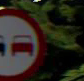No overtake: (0, 5, 51, 78)
